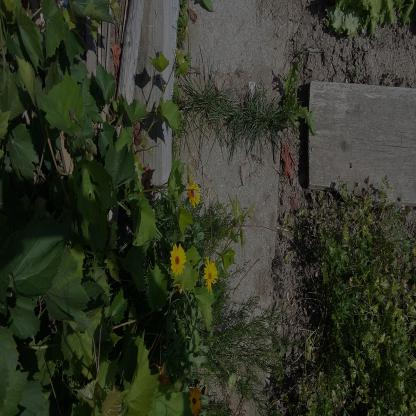marigold: (169, 241, 186, 276), (202, 257, 219, 292), (188, 384, 202, 416), (187, 180, 201, 209)
